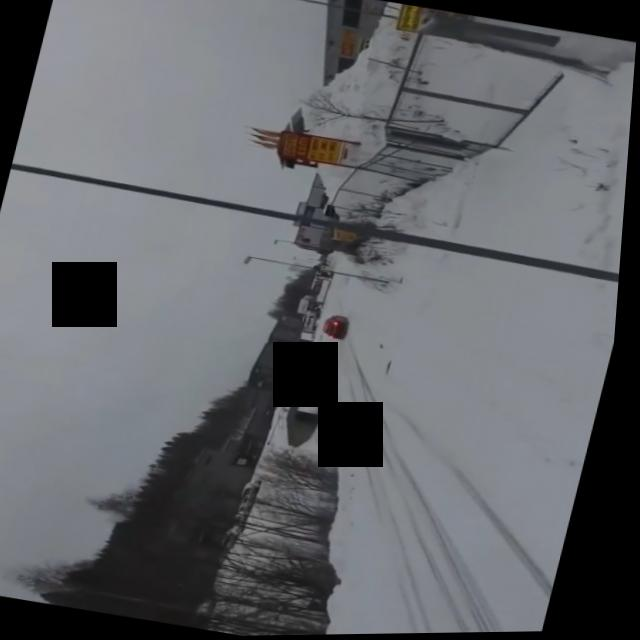Pole: (0, 141, 631, 304), (243, 250, 395, 292)
Vehicle: (318, 311, 358, 341)
